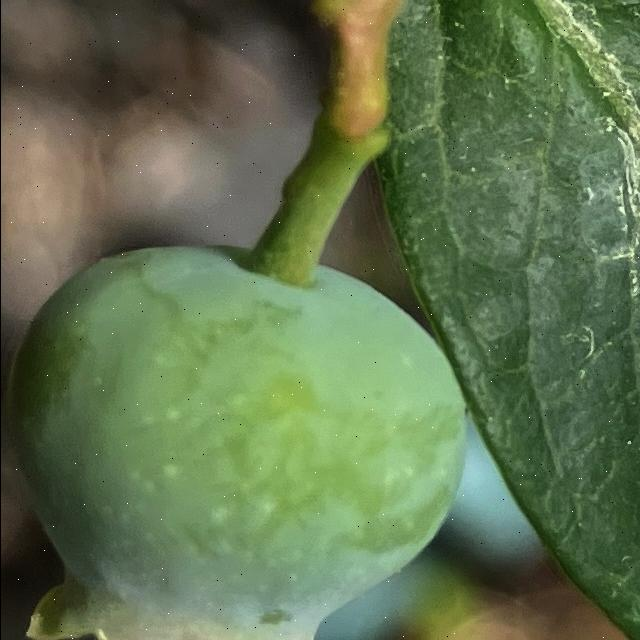Blueberries: (0, 214, 476, 640)
